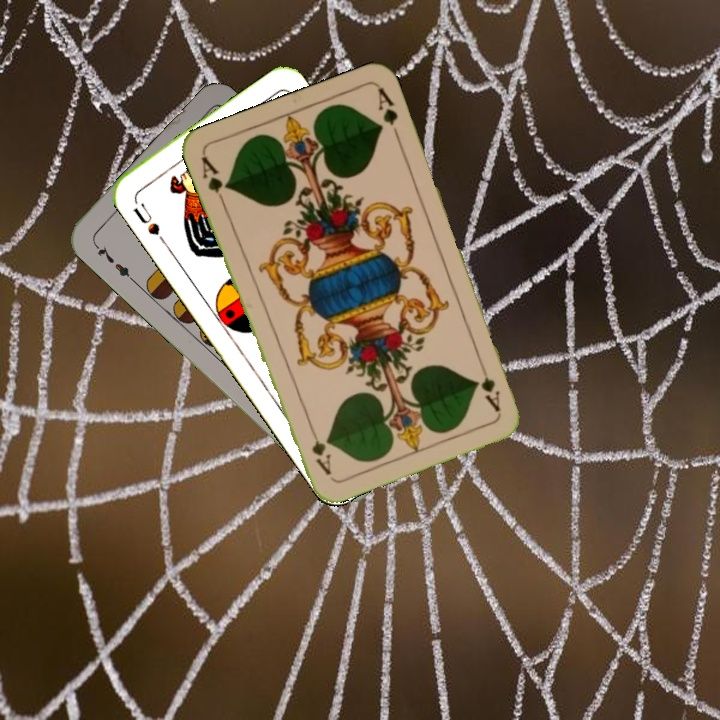E7: (90, 239, 137, 284)
GA: (197, 152, 231, 209), (474, 357, 504, 415)
SU: (129, 199, 169, 247)
